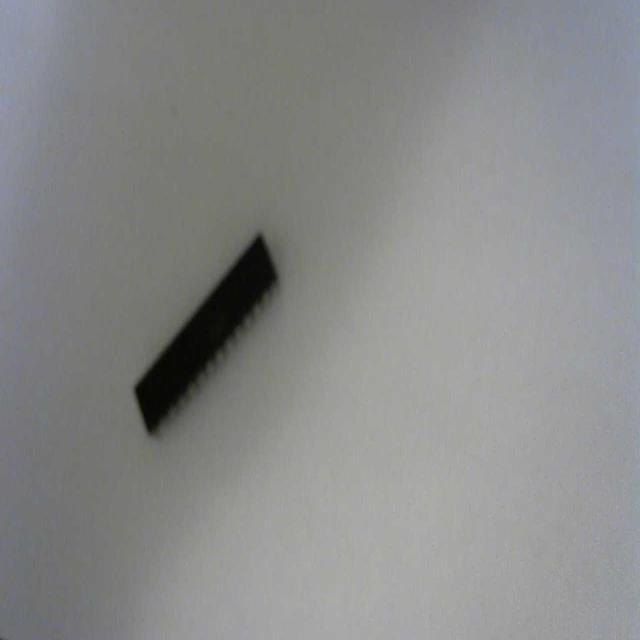atmega: (130, 228, 280, 440)
